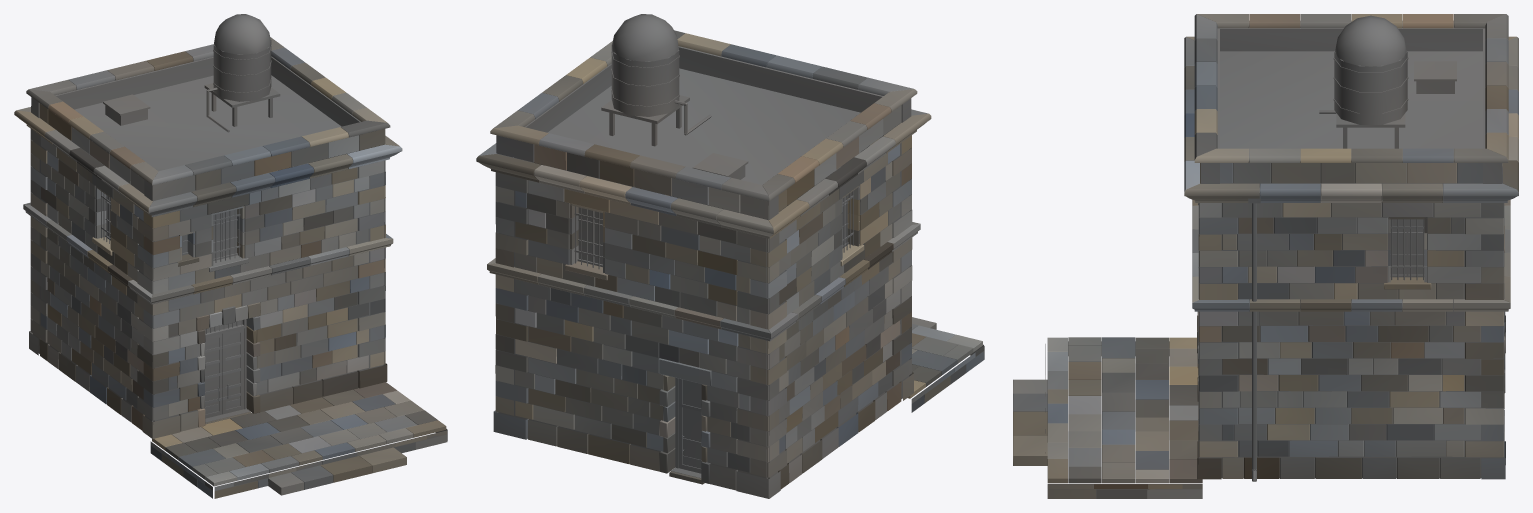
Rendered from AirWater_LOD1.glb.
3 renders of one model, left to right at view 1: azimuth 30°, elevation 25°; view 2: azimuth 150°, elevation 25°; view 3: azimuth 270°, elevation 25°, orthographic. The views are drawn at different scales.
Visible parts, largest first — view 1: AirWater_Masonry_LOD1, AirWater_Trim_LOD1, AirWater_Porch_LOD1, AirWater_Roof_LOD1, AirWater_Metal_LOD1, AirWater_Glass_LOD1; view 2: AirWater_Masonry_LOD1, AirWater_Trim_LOD1, AirWater_Roof_LOD1, AirWater_Metal_LOD1, AirWater_Porch_LOD1, AirWater_Glass_LOD1; view 3: AirWater_Masonry_LOD1, AirWater_Trim_LOD1, AirWater_Porch_LOD1, AirWater_Roof_LOD1, AirWater_Metal_LOD1, AirWater_Glass_LOD1.
Part boxes in pixels (<box>): AirWater_Masonry_LOD1: <box>29,56,387,438</box>; AirWater_Trim_LOD1: <box>14,37,402,427</box>; AirWater_Porch_LOD1: <box>150,382,447,498</box>; AirWater_Roof_LOD1: <box>74,75,341,171</box>; AirWater_Metal_LOD1: <box>101,14,293,422</box>; AirWater_Glass_LOD1: <box>107,196,242,333</box>; AirWater_Masonry_LOD1: <box>493,46,913,498</box>; AirWater_Trim_LOD1: <box>476,30,931,483</box>; AirWater_Roof_LOD1: <box>547,68,860,184</box>; AirWater_Metal_LOD1: <box>546,14,859,478</box>; AirWater_Porch_LOD1: <box>669,317,984,484</box>; AirWater_Glass_LOD1: <box>547,166,859,283</box>; AirWater_Masonry_LOD1: <box>1197,21,1505,479</box>; AirWater_Trim_LOD1: <box>1184,14,1518,401</box>; AirWater_Porch_LOD1: <box>1013,337,1202,498</box>; AirWater_Roof_LOD1: <box>1220,51,1482,152</box>; AirWater_Metal_LOD1: <box>1248,15,1426,481</box>; AirWater_Glass_LOD1: <box>1390,219,1424,274</box>.
Size of the model in its own units: 8.46 by 11.11 by 11.73.
